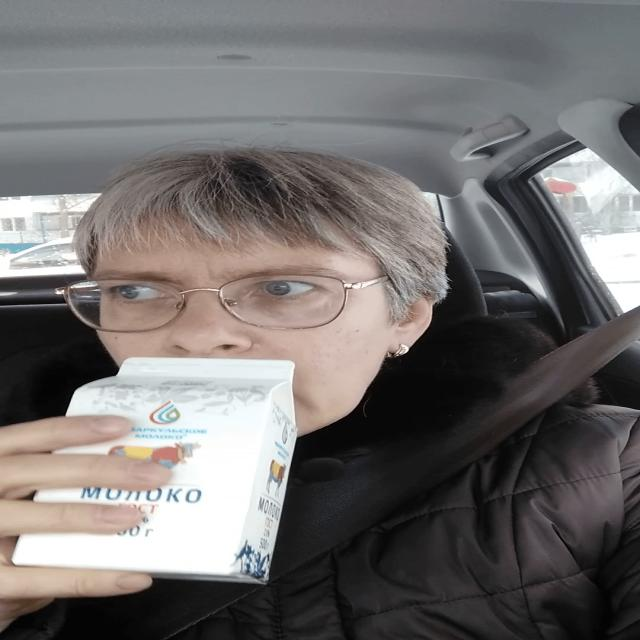3: (78, 309, 640, 640)
Seatbelt: (12, 355, 310, 590)
